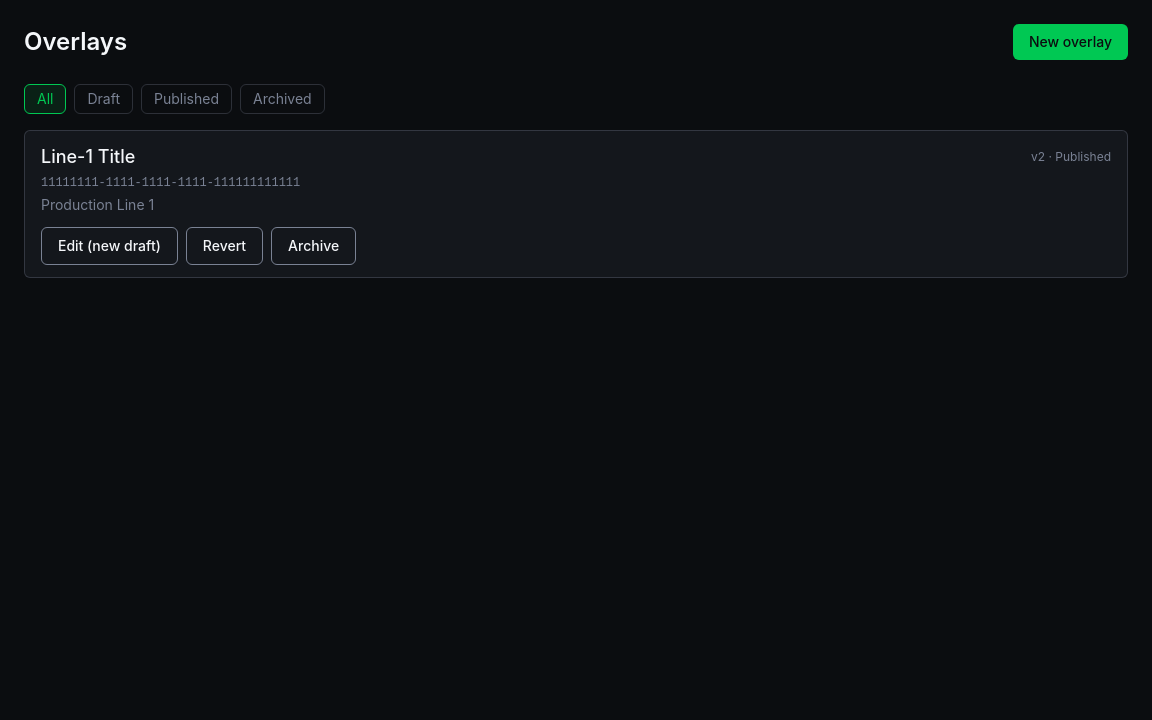
Test: OverlaysPage — archive confirmation › Names the overlay and revision, and shows no identifier
Step 1. Click the button "Archive" → coordinates (314, 246), box [271, 227, 356, 265]
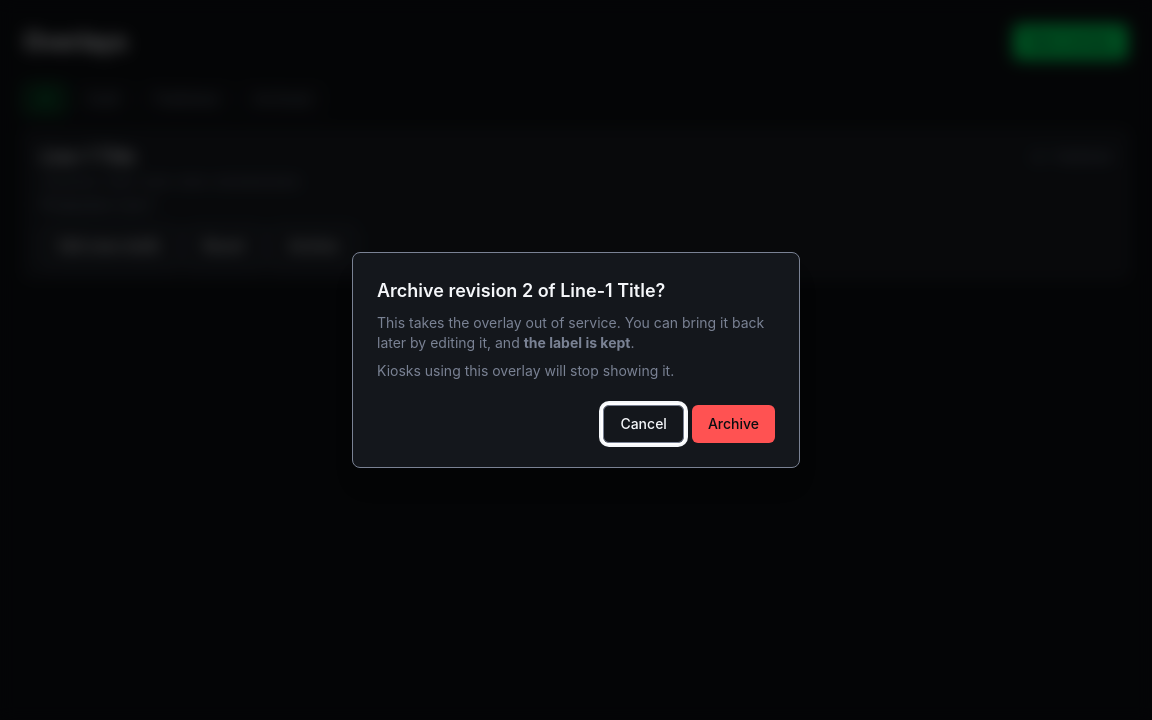
Expected: the dialog does not show "11111111-1111-1111-1111-111111111111", [352, 252, 800, 468]
Expected: the dialog shows "Line-1 Title", [377, 280, 665, 301]
Expected: the dialog shows "2", [377, 280, 665, 301]
